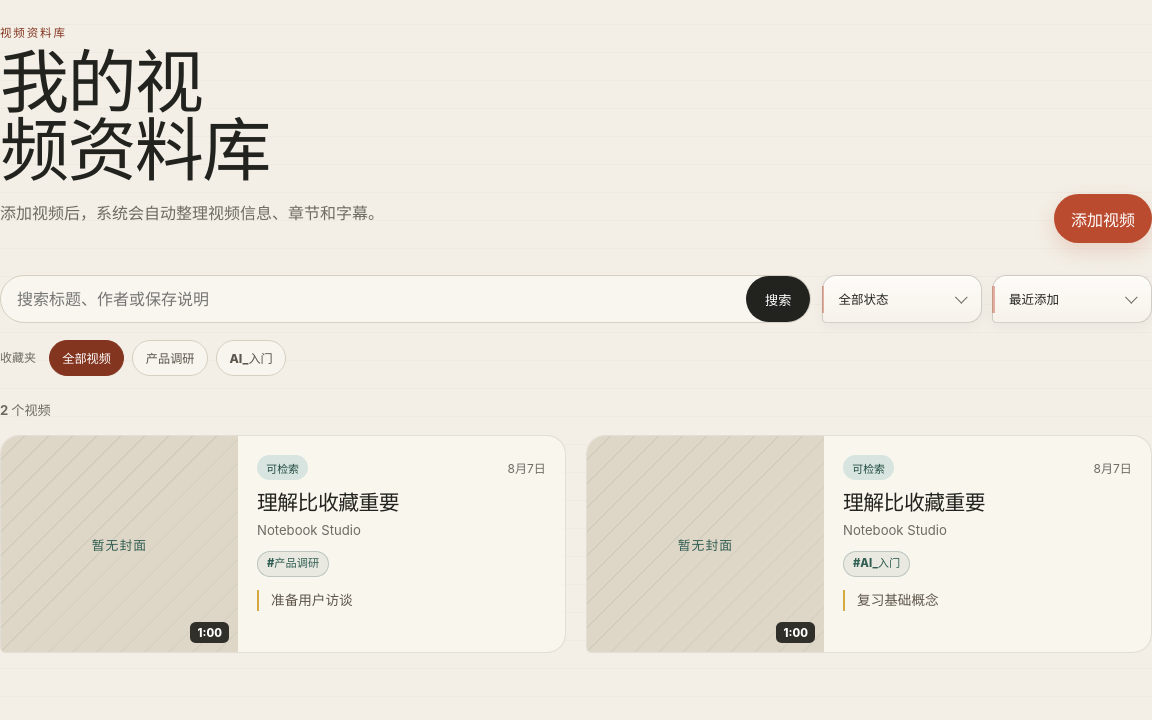
Test: library page › discovers collection tags and sends a dedicated exact collection filter
The width and height of the screenshot is (1152, 720).
Expected: the button "AI_入门" is shown, x1=216 y1=340 x2=286 y2=376
Click the button "产品调研": (170, 358) x1=132 y1=340 x2=208 y2=376
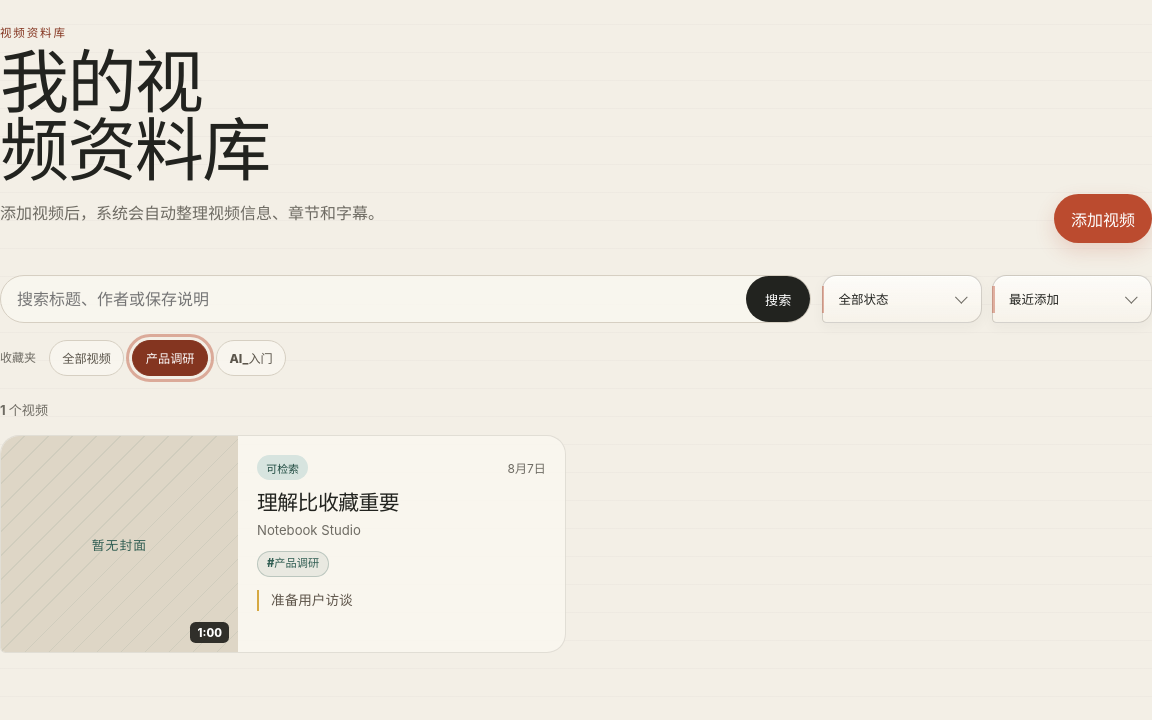
Expected: the button "AI_入门" is shown, x1=216 y1=340 x2=286 y2=376
Expected: the button "产品调研" is pressed, x1=132 y1=340 x2=208 y2=376
Click the button "添加视频": (1103, 219) x1=1054 y1=194 x2=1151 y2=243
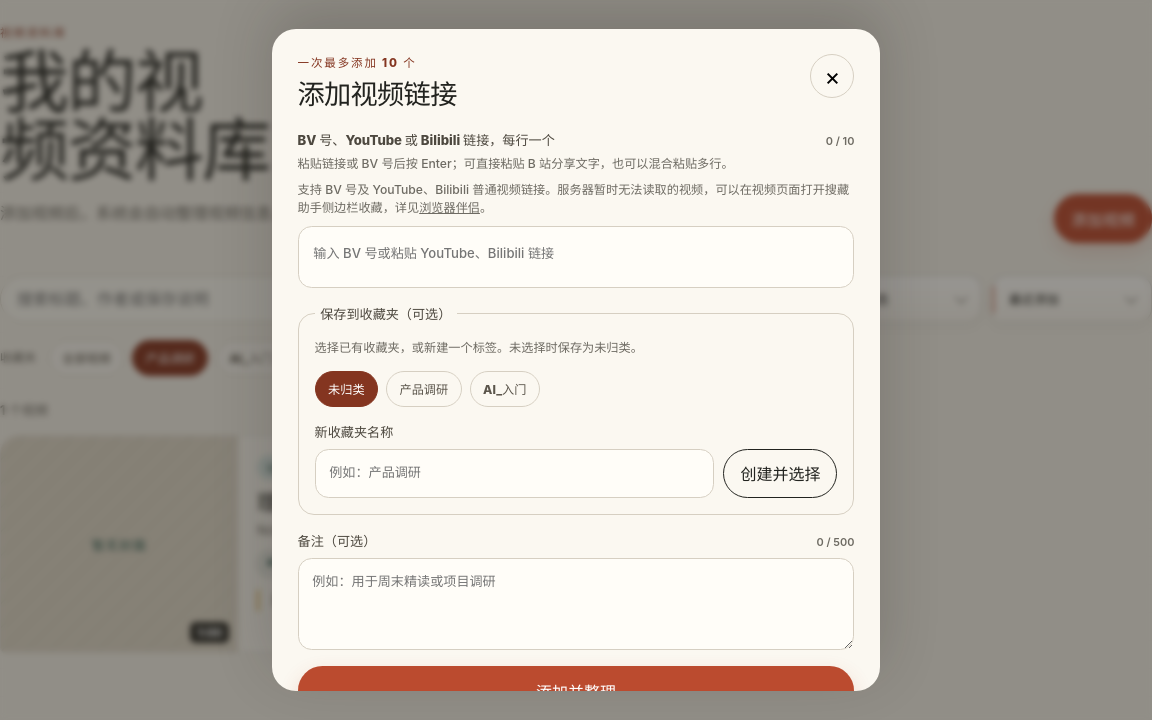
Expected: the button "产品调研" is shown, x1=386 y1=371 x2=462 y2=407
Expected: the button "AI_入门" is shown, x1=470 y1=371 x2=540 y2=407
